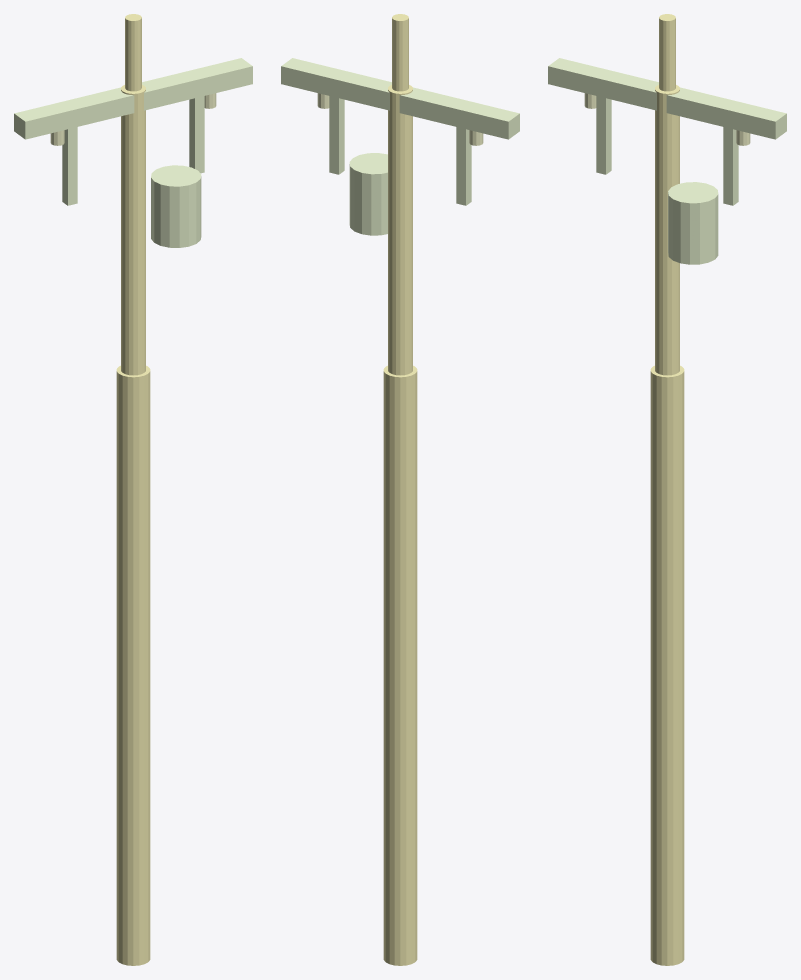
File: furniture_utility_pole_concrete.glb
The picture shows the model from 3 angles, left to right: view 1: azimuth 30°, elevation 25°; view 2: azimuth 150°, elevation 25°; view 3: azimuth 330°, elevation 25°; orthographic projection.
Visible parts, largest first — view 1: shaft_lower, shaft_upper, crossarm, transformer, cap, brace_left, brace_right; view 2: shaft_lower, shaft_upper, crossarm, transformer, cap, brace_right, brace_left; view 3: shaft_lower, crossarm, shaft_upper, transformer, cap, brace_left, brace_right.
Boxes of the visible parts, <box> form: shaft_lower: <box>116,365,150,965</box>; shaft_upper: <box>121,85,145,375</box>; crossarm: <box>14,58,252,139</box>; transformer: <box>151,165,201,247</box>; cap: <box>125,14,141,91</box>; brace_left: <box>62,127,77,205</box>; brace_right: <box>189,96,204,173</box>; shaft_lower: <box>383,365,417,965</box>; shaft_upper: <box>388,85,412,375</box>; crossarm: <box>281,58,519,139</box>; transformer: <box>349,153,387,235</box>; cap: <box>392,14,408,91</box>; brace_right: <box>329,96,344,174</box>; brace_left: <box>456,127,471,205</box>; shaft_lower: <box>650,365,684,965</box>; crossarm: <box>548,58,786,139</box>; shaft_upper: <box>655,85,679,375</box>; transformer: <box>668,182,718,264</box>; cap: <box>659,14,675,91</box>; brace_left: <box>596,96,611,174</box>; brace_right: <box>723,127,738,205</box>.
Size of the model in its own units: 1.86 by 7.36 by 0.4182.
